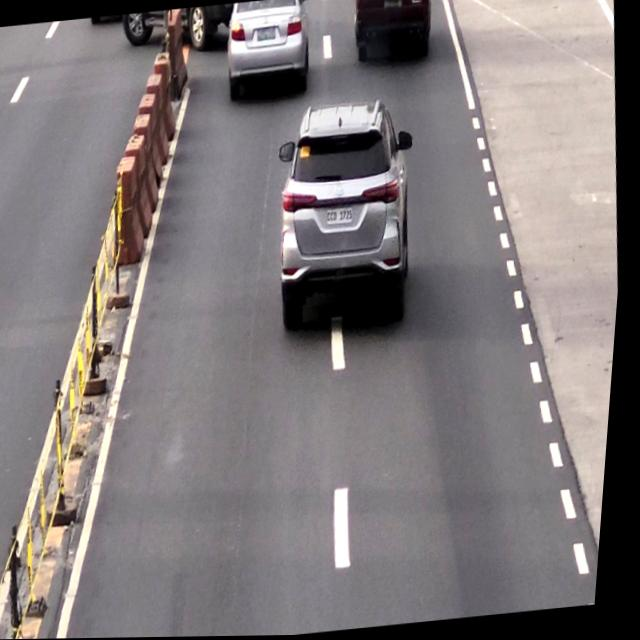Car: (268, 100, 425, 333), (220, 0, 313, 111), (349, 0, 433, 64)
License-Plate: (327, 204, 358, 227)
